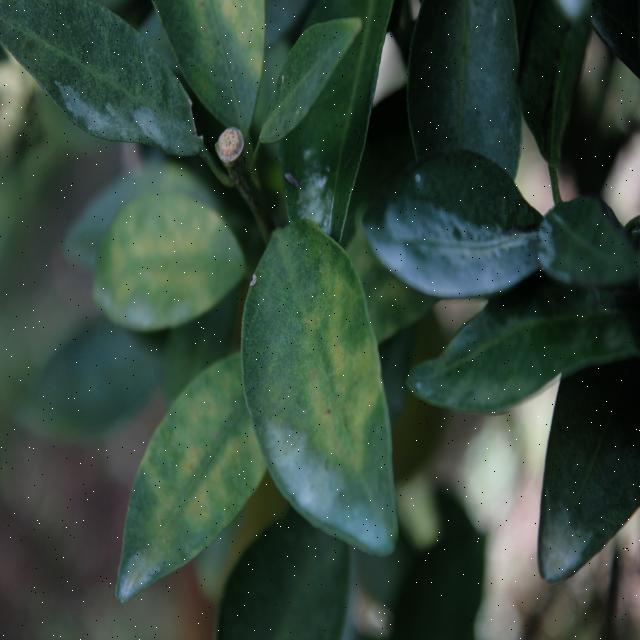blackspot: (376, 152, 538, 302), (69, 26, 183, 144), (426, 22, 507, 148), (189, 6, 260, 87)
